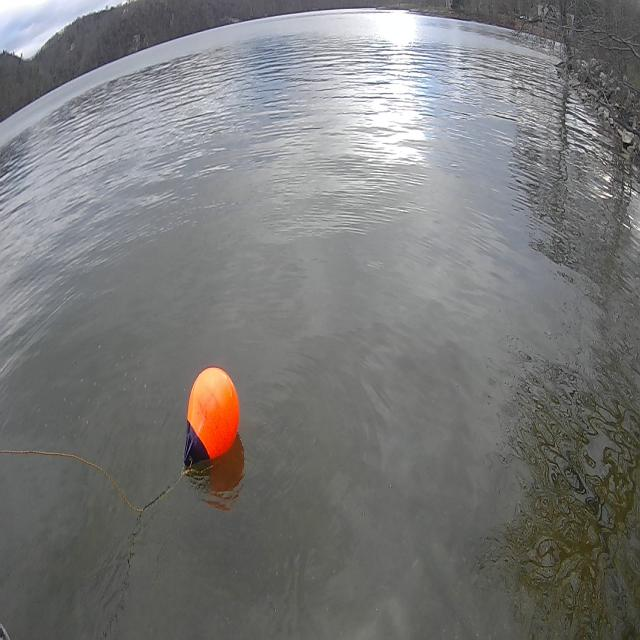Buoy: (183, 364, 241, 464)
